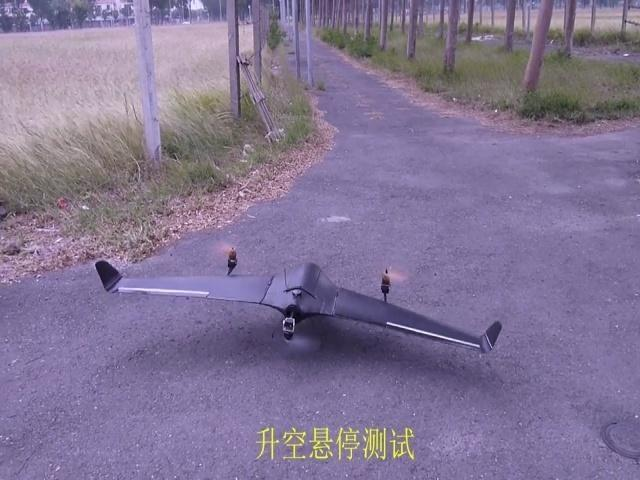Airplane: (95, 242, 502, 361)
